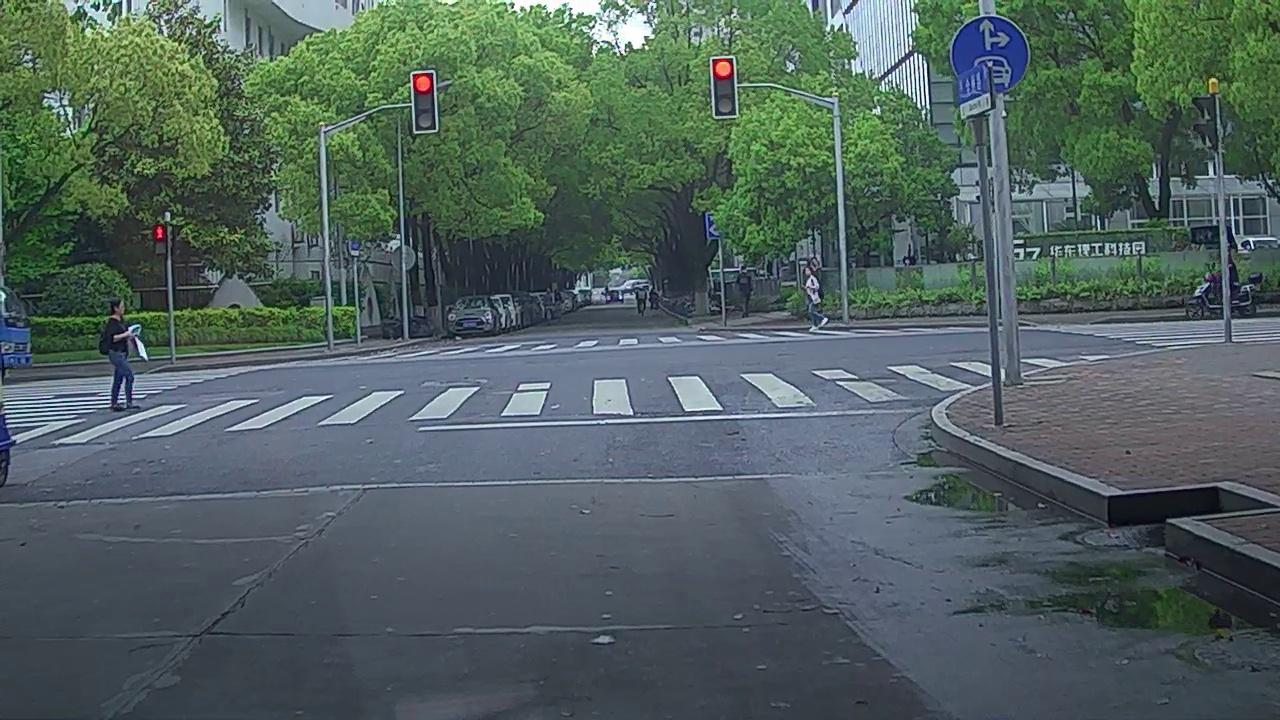traffic_light: (710, 57, 737, 120), (412, 75, 437, 131)
